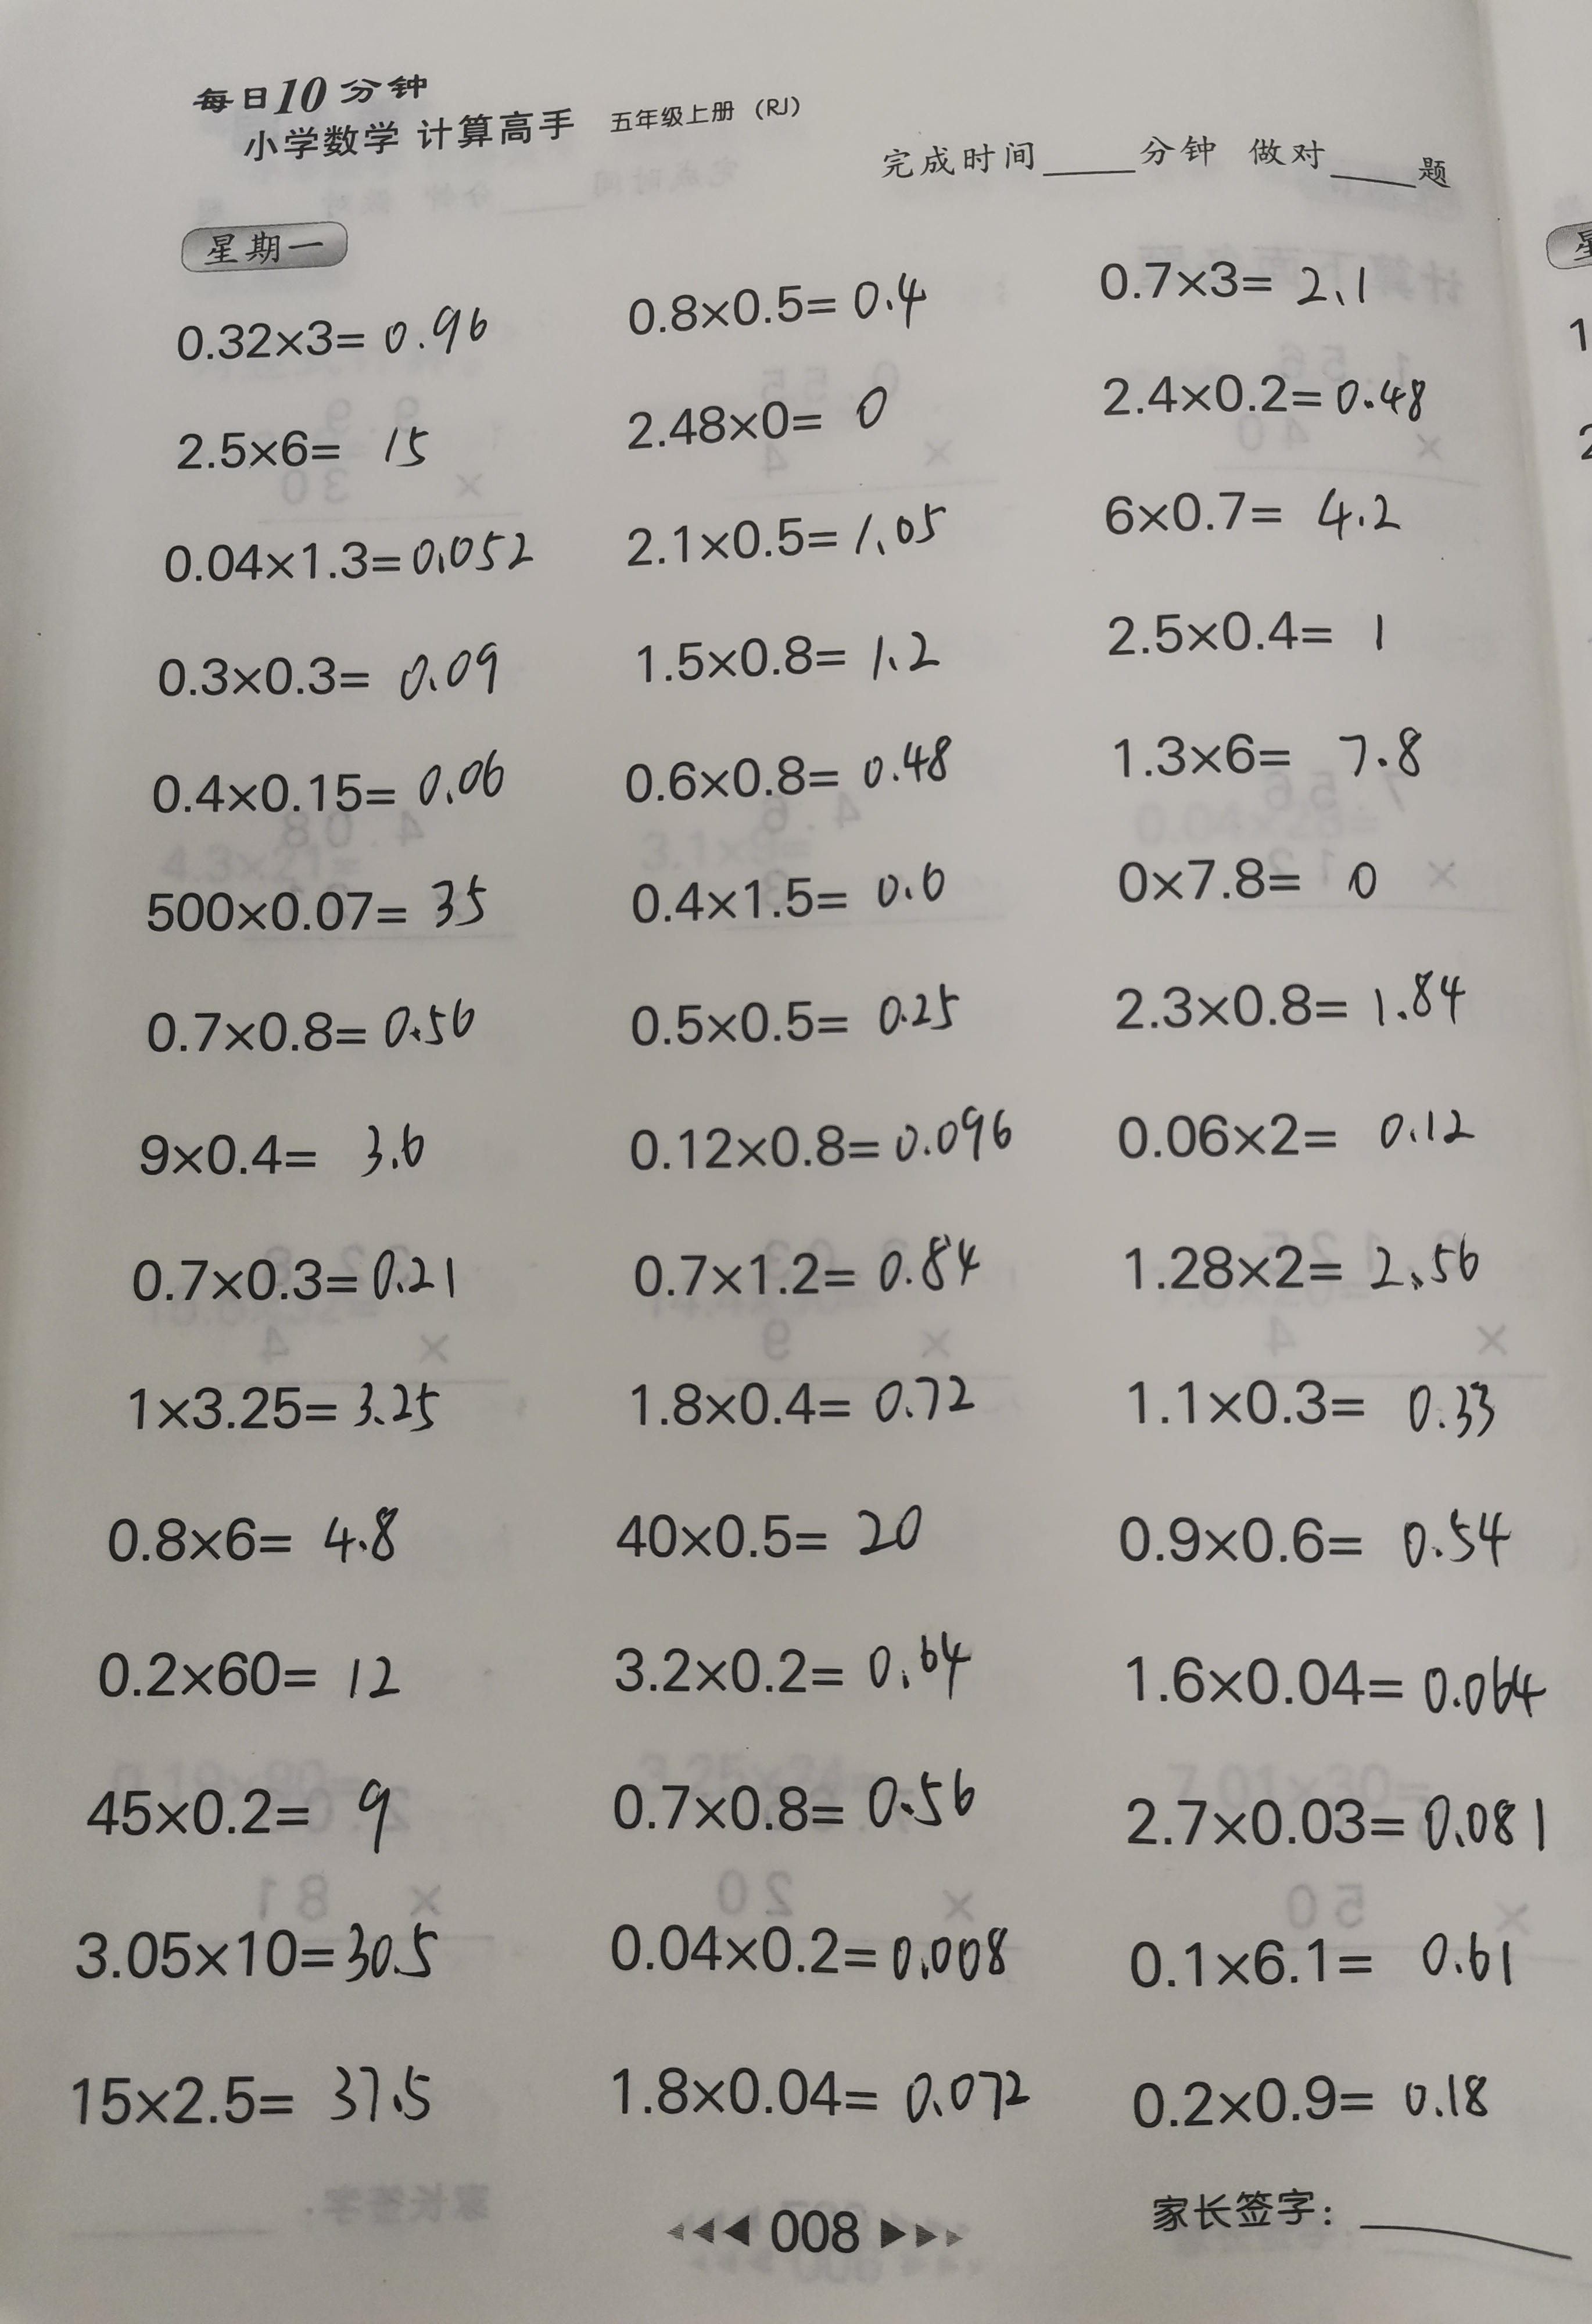equation: (1108, 1771, 1571, 1868), (1110, 1632, 1555, 1729), (1103, 1086, 1504, 1183), (588, 1618, 988, 1713), (1097, 1494, 1528, 1582), (594, 2045, 1042, 2130), (1111, 1360, 1523, 1452), (592, 1904, 1028, 1990), (585, 1755, 991, 1844), (1104, 1916, 1534, 1999), (60, 2045, 452, 2133), (71, 1761, 408, 1863), (617, 1222, 1012, 1307), (62, 1907, 447, 1994), (1126, 2052, 1507, 2139), (603, 726, 970, 812), (1103, 957, 1484, 1040), (1083, 350, 1447, 436), (1110, 1224, 1495, 1305), (610, 1098, 1030, 1173), (120, 1238, 479, 1324), (81, 1625, 426, 1715), (147, 519, 551, 595), (615, 1356, 993, 1437), (1087, 706, 1442, 791), (138, 742, 518, 819), (122, 987, 500, 1063), (111, 1362, 461, 1443), (87, 1489, 421, 1573), (606, 496, 961, 576), (594, 1496, 949, 1575), (147, 297, 505, 374), (599, 261, 947, 341), (610, 977, 972, 1053), (127, 872, 509, 943), (108, 1111, 445, 1190), (140, 639, 518, 710), (608, 855, 963, 927), (1073, 238, 1396, 318), (1085, 479, 1429, 553), (1074, 597, 1426, 668), (152, 411, 466, 486), (615, 625, 959, 692), (1094, 846, 1408, 918), (608, 380, 906, 456)
